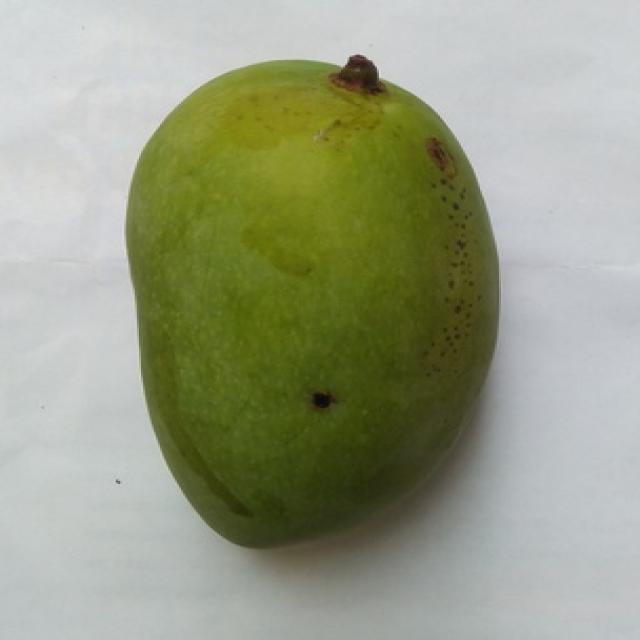Mango: (126, 60, 493, 546)
